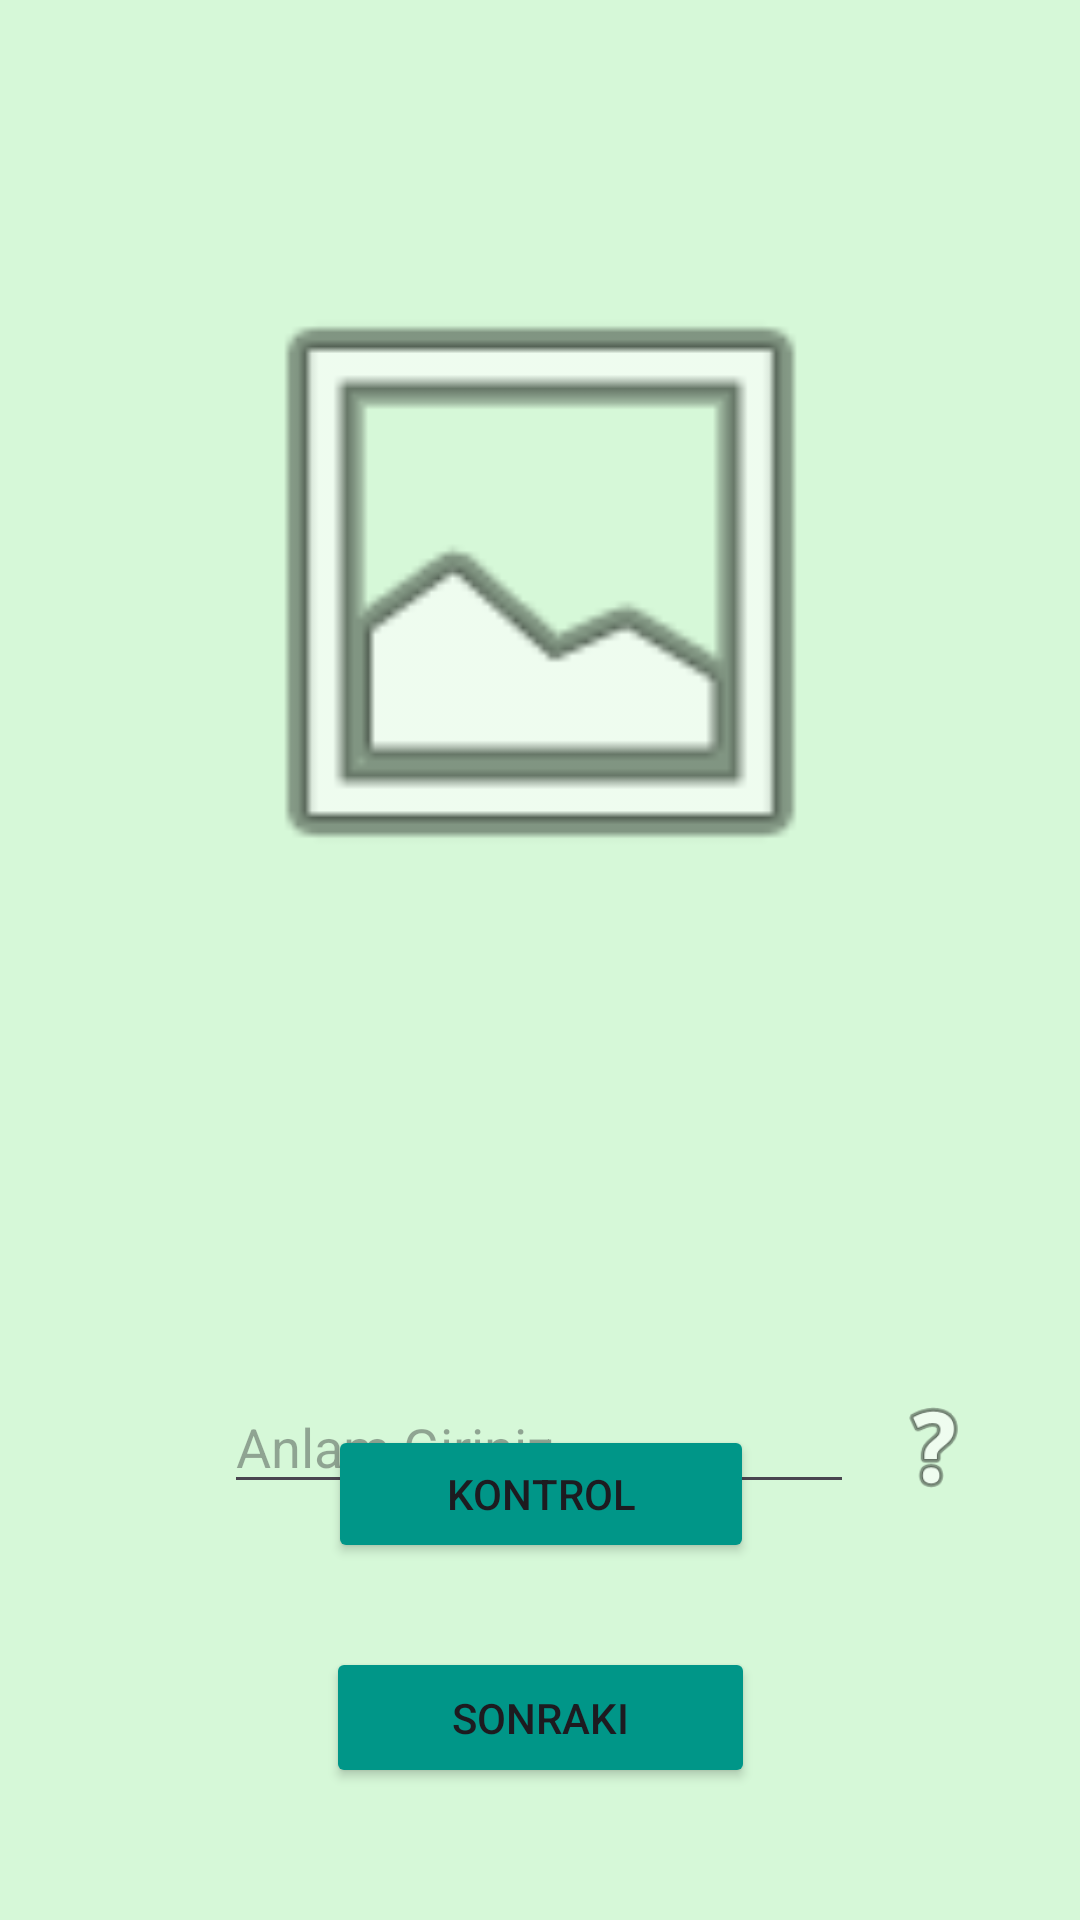

Where to tap for icons on this 1080 × 1920 app screen, as [x,y]:
help: [933,1447]
